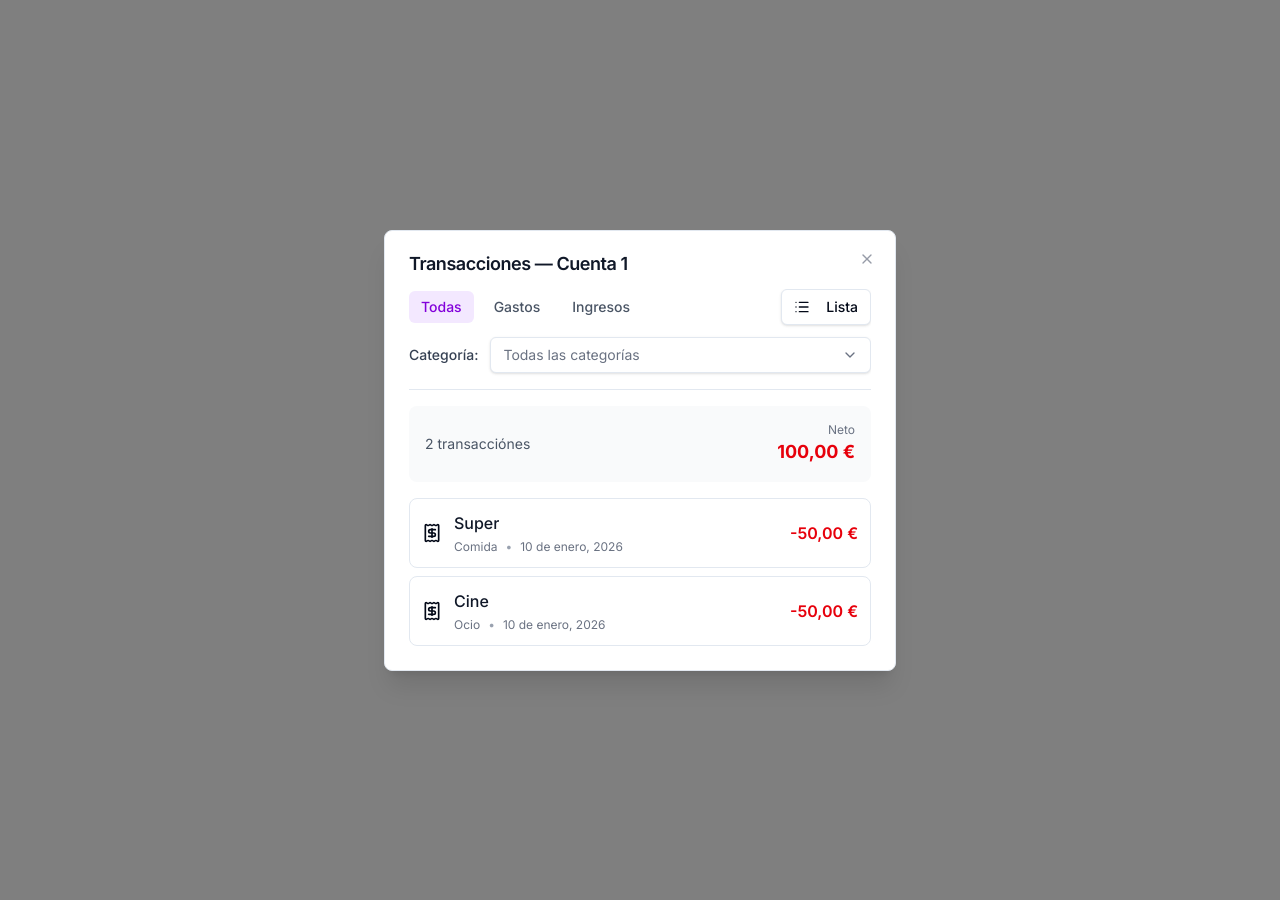
Test: AccountTransactionsModal › filtrar por una categoría específica desde el dropdown
Expected: the text "Super" is shown, [454,510,499,534]
Click the button "Todas las categorías" at [572, 354], box [490,336,871,372]
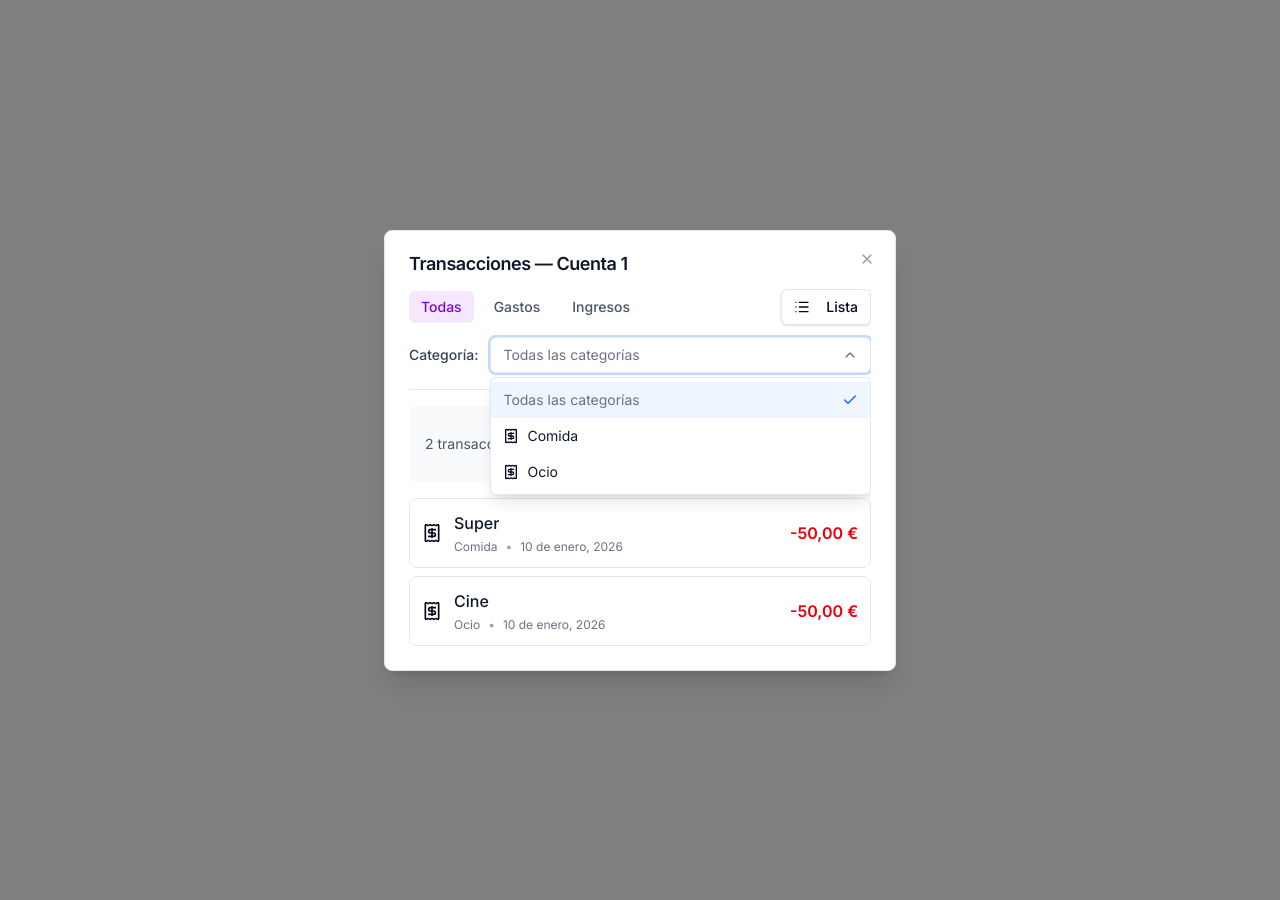
Click the button "Ocio" at [543, 471], box [492,454,870,490]
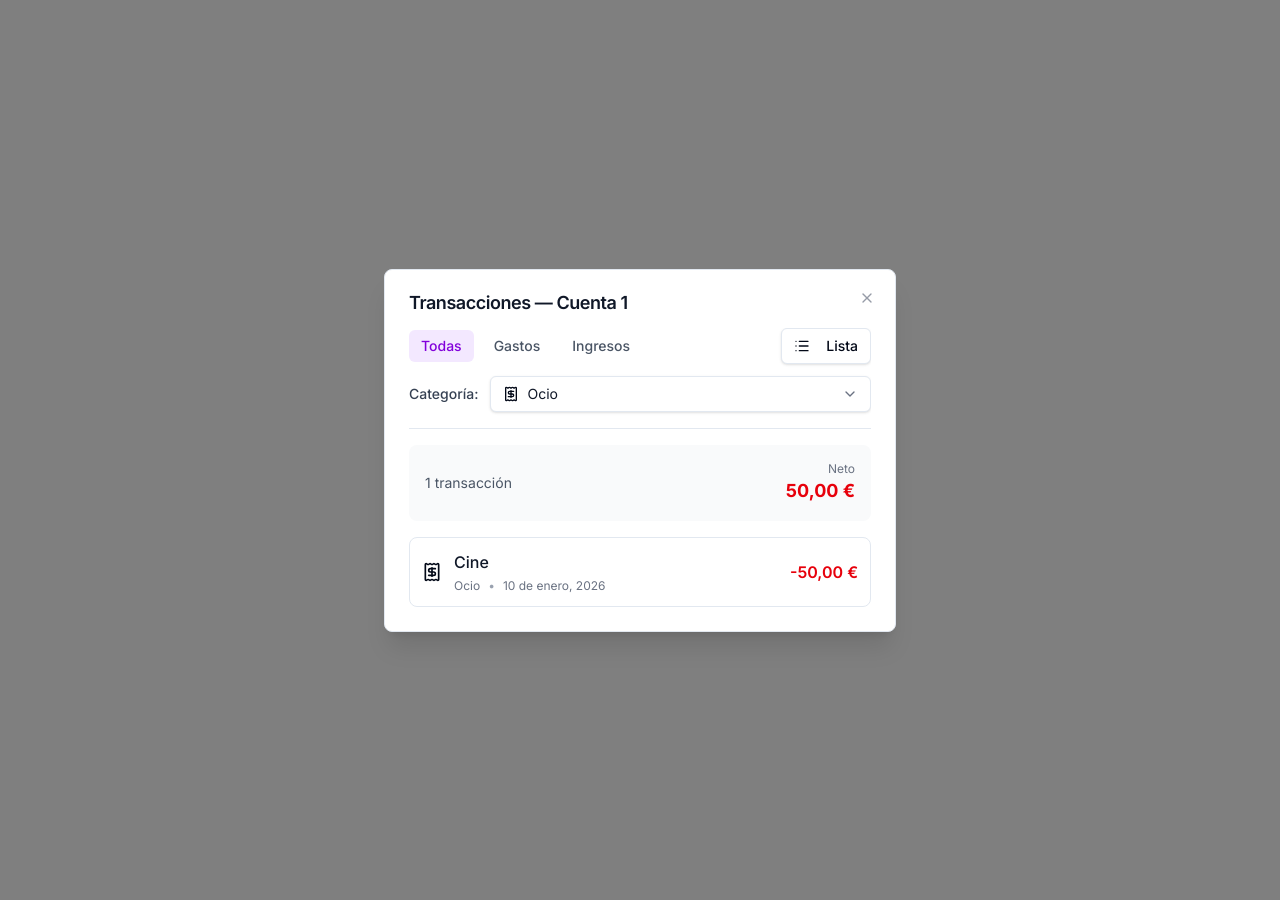
Expected: the text "Cine" is shown, [454,550,489,574]
Expected: the text "Super" is gone
